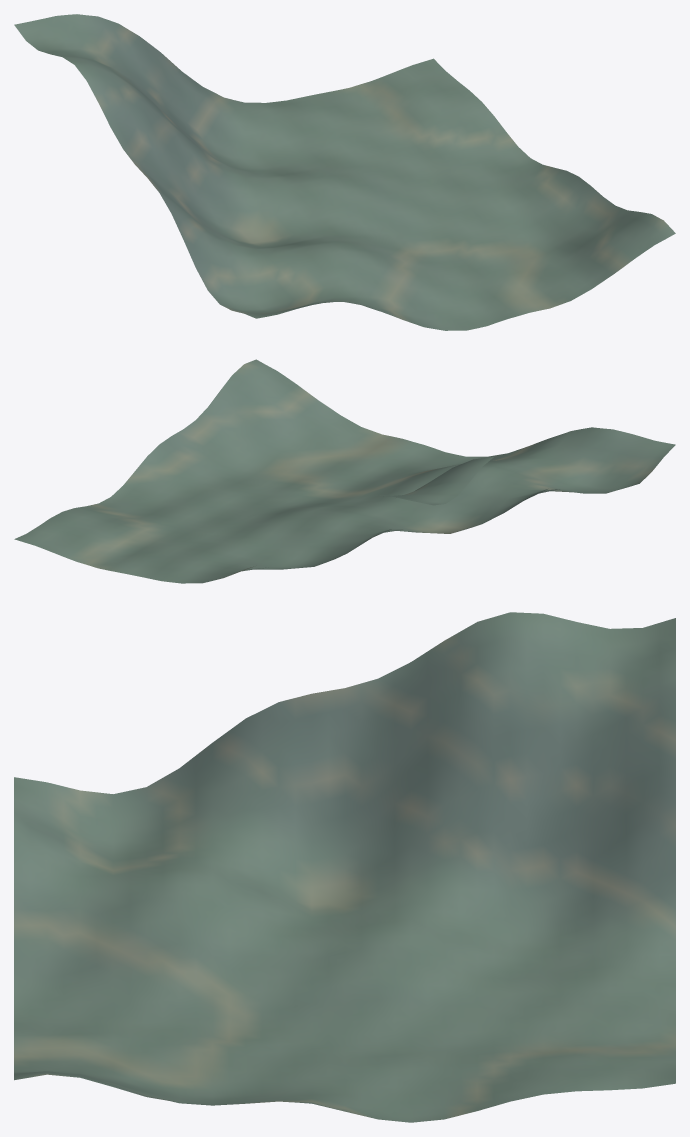
The model's file is ridge_-1_-8.glb.
3 renders of one model, top to bottom at view 1: azimuth 30°, elevation 25°; view 2: azimuth 150°, elevation 25°; view 3: azimuth 270°, elevation 25°, orthographic. The views are drawn at different scales.
Bounding box in the file's own units: 220 × 92.42 × 220.
